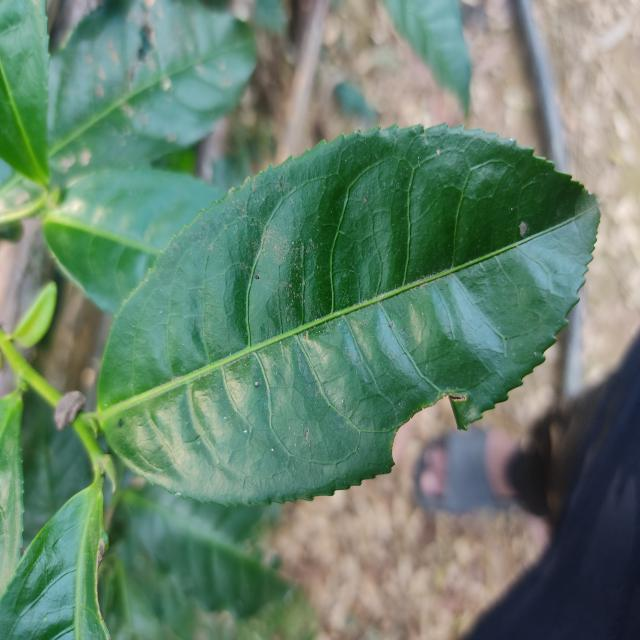Category D 7+ days, Not for Tea: (91, 117, 606, 532)
